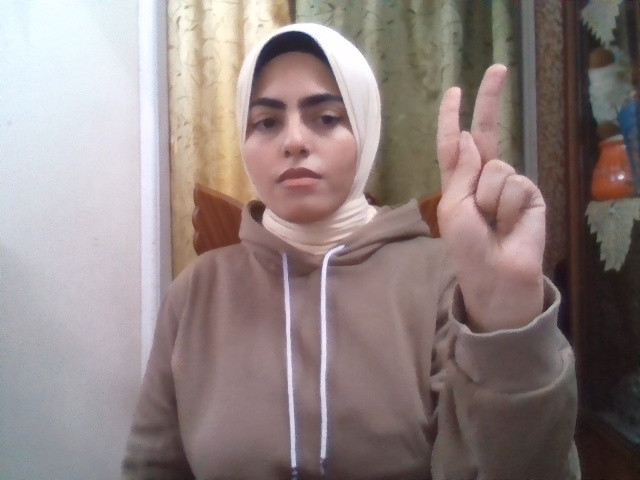K: (436, 63, 547, 292)
